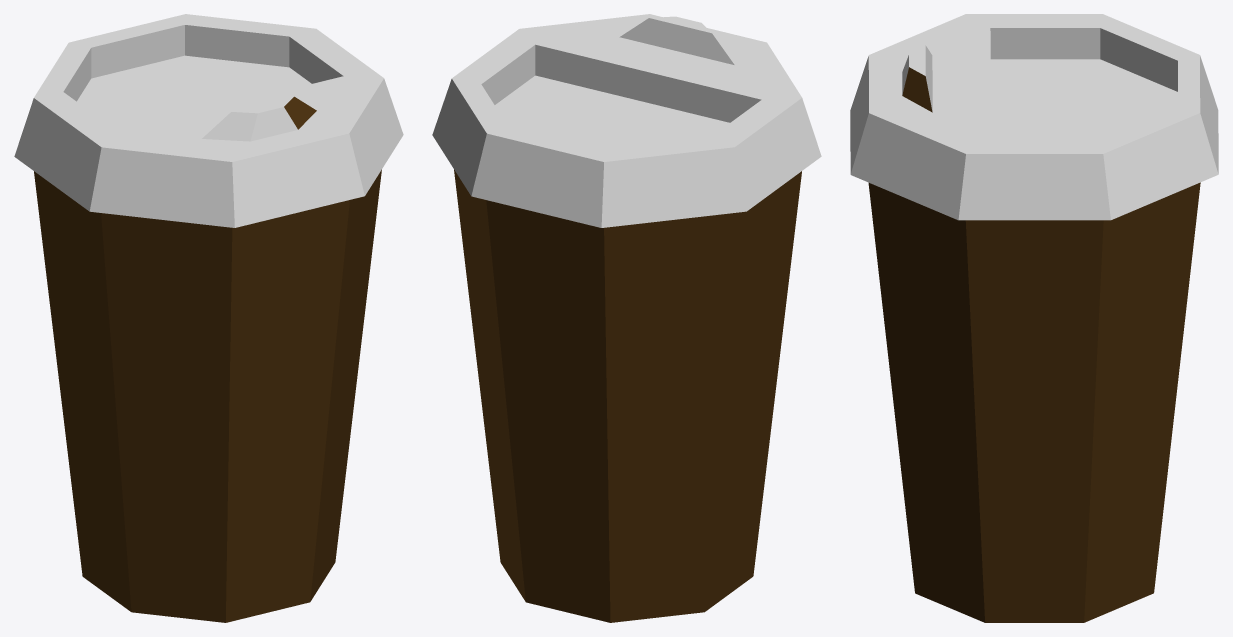
Rendered from Coffee.fbx.
3 renders of one model, left to right at view 1: azimuth 30°, elevation 25°; view 2: azimuth 150°, elevation 25°; view 3: azimuth 270°, elevation 25°, orthographic.
Visible parts, largest first — view 1: Cube; view 2: Cube; view 3: Cube.
Boxes of the visible parts, <box> form: Cube: <box>14,14,403,622</box>; Cube: <box>432,14,821,622</box>; Cube: <box>850,14,1218,622</box>.
Size of the model in its own units: 85.41 by 131 by 85.41.
